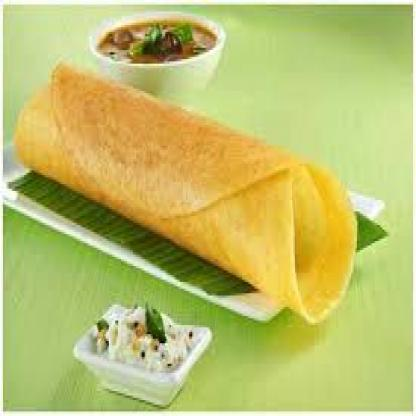dosa: (16, 60, 358, 323)
